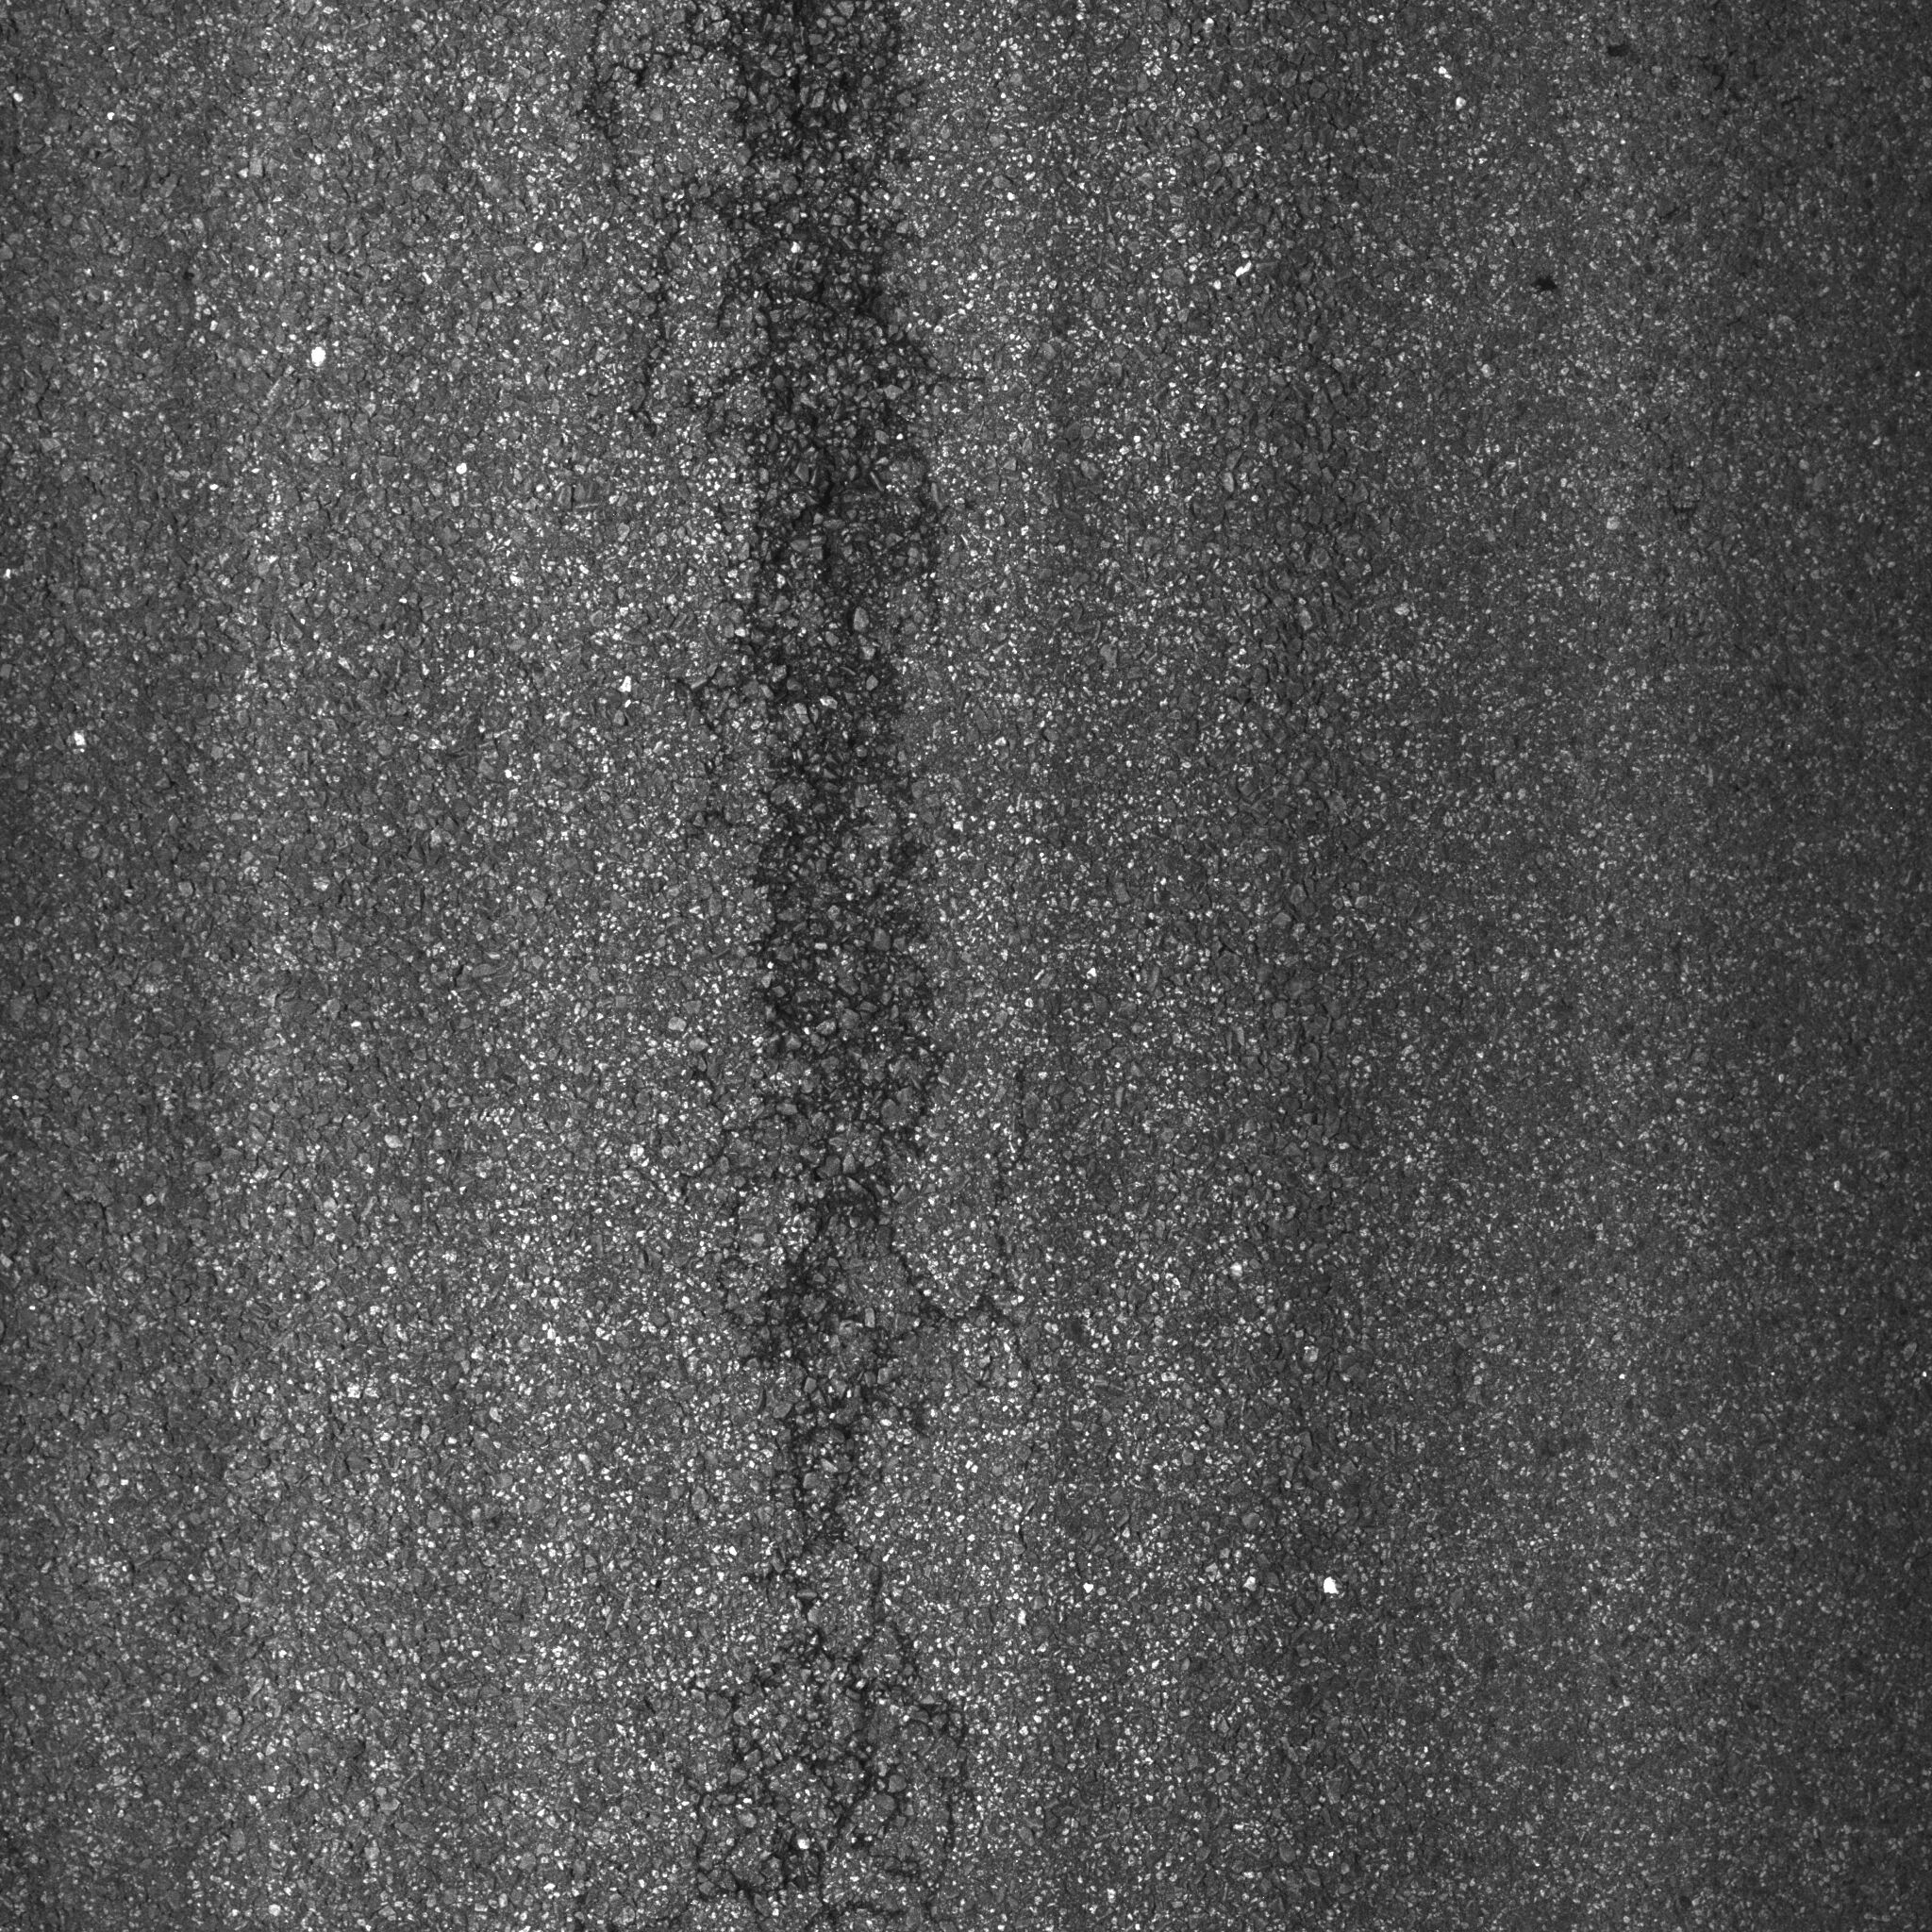alligator: (536, 4, 1100, 1932)
